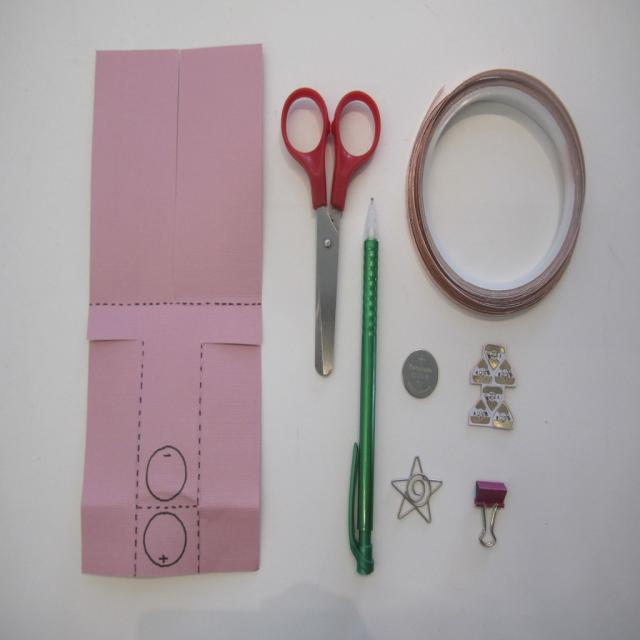scissors: (280, 86, 381, 376)
